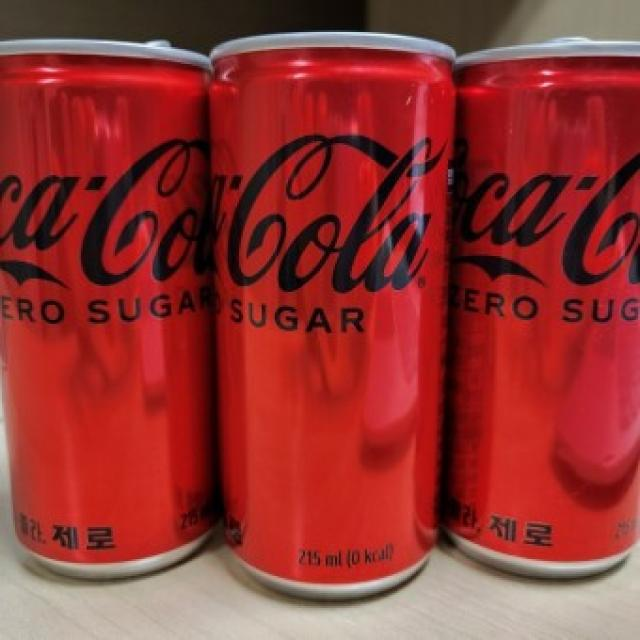can: (208, 35, 462, 597), (1, 38, 217, 592), (443, 44, 640, 593)
